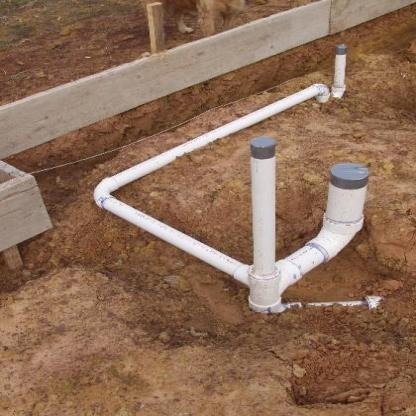PVC: (89, 49, 387, 314)
